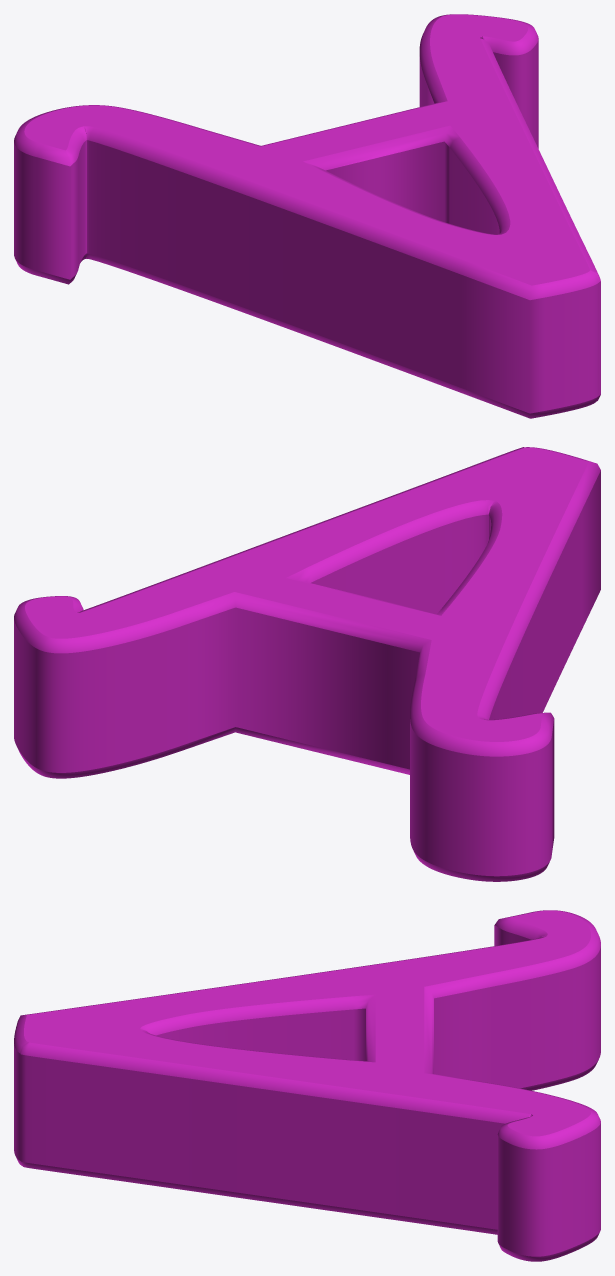
The model's file is Letter_A.fbx.
The picture shows the model from 3 angles, top to bottom: view 1: azimuth 30°, elevation 25°; view 2: azimuth 150°, elevation 25°; view 3: azimuth 270°, elevation 25°; orthographic projection. The views are drawn at different scales.
Visible parts, largest first — view 1: Letter_A; view 2: Letter_A; view 3: Letter_A.
Part boxes in pixels (<box>): Letter_A: <box>14,14,600,418</box>; Letter_A: <box>14,447,600,881</box>; Letter_A: <box>14,910,600,1261</box>.
Size of the model in its own units: 0.5623 by 0.14 by 0.5955.
